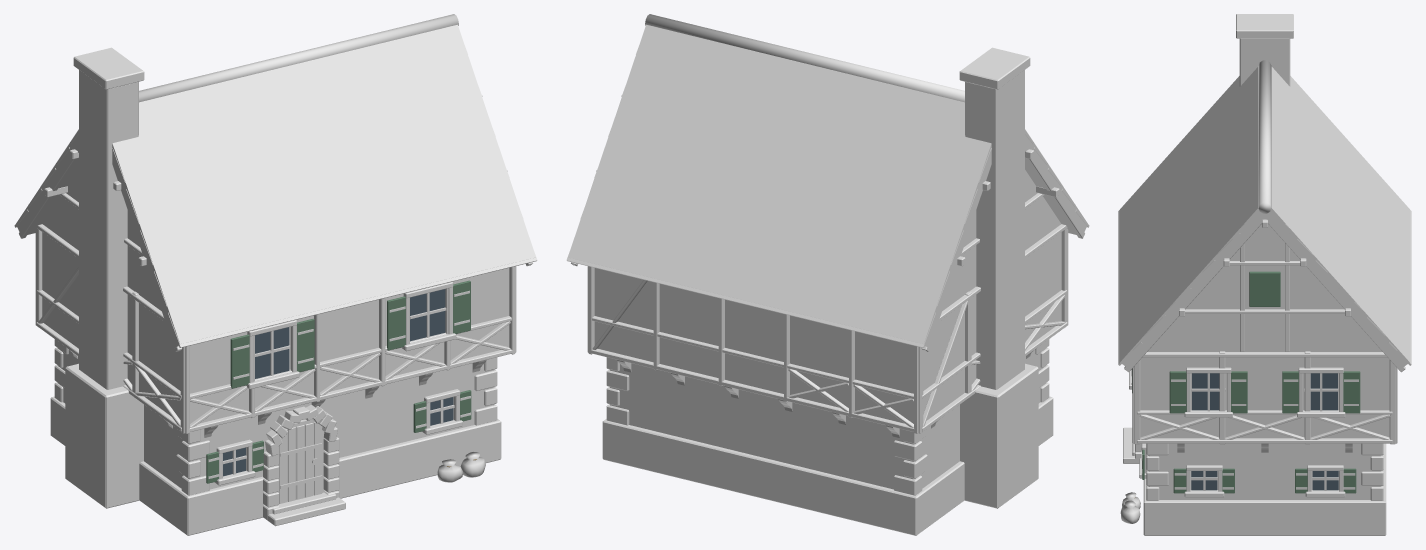
The model's file is col_03_normande_chaume.fbx.
The picture shows the model from 3 angles, left to right: view 1: azimuth 30°, elevation 25°; view 2: azimuth 150°, elevation 25°; view 3: azimuth 270°, elevation 25°; orthographic projection. The views are drawn at different scales.
Parts seen in each view (by area): view 1: col_03_normande_chaume_LOD0; view 2: col_03_normande_chaume_LOD0; view 3: col_03_normande_chaume_LOD0.
Part boxes in pixels (bbox=[...]): col_03_normande_chaume_LOD0: bbox=[14, 14, 537, 535]; col_03_normande_chaume_LOD0: bbox=[566, 14, 1089, 535]; col_03_normande_chaume_LOD0: bbox=[1118, 14, 1411, 535].
Size of what is drawn, in the model's own units: 8.82 by 9.58 by 6.79.
